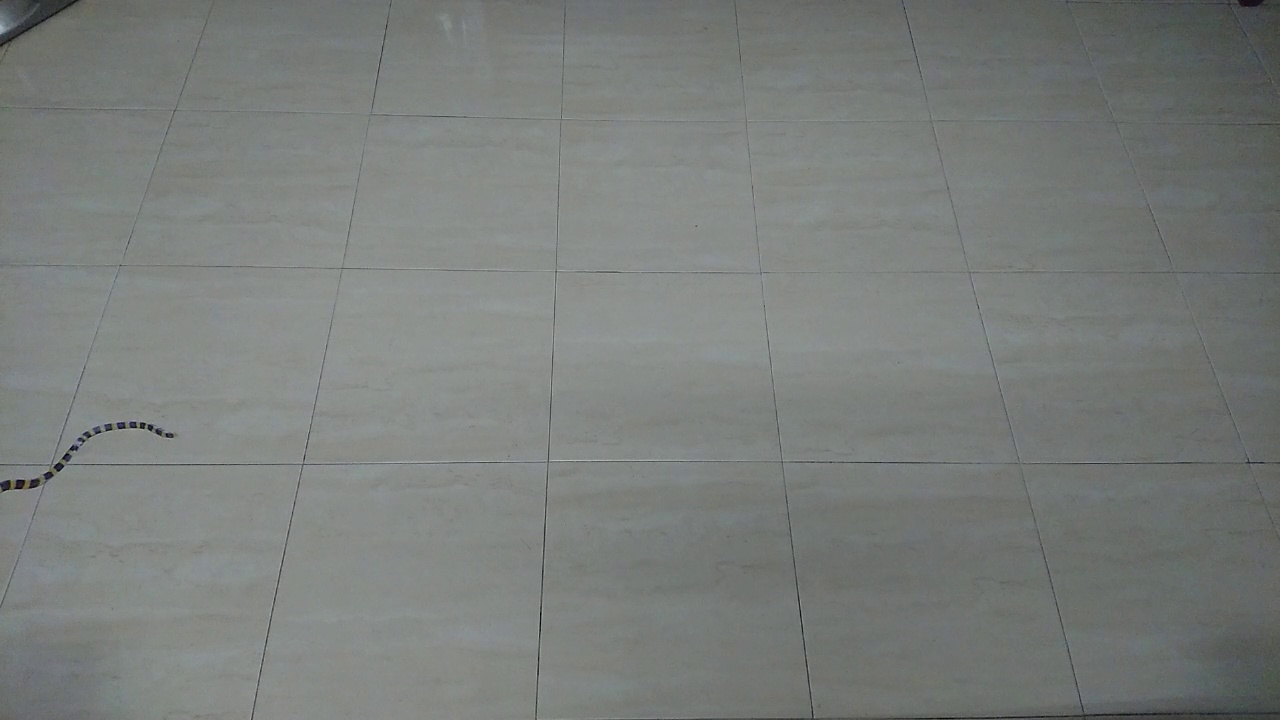snake: (1, 413, 185, 509)
